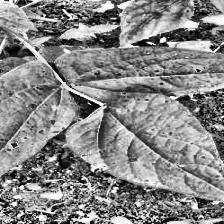ALS: (91, 101, 224, 213), (0, 57, 67, 193), (65, 50, 224, 99)
